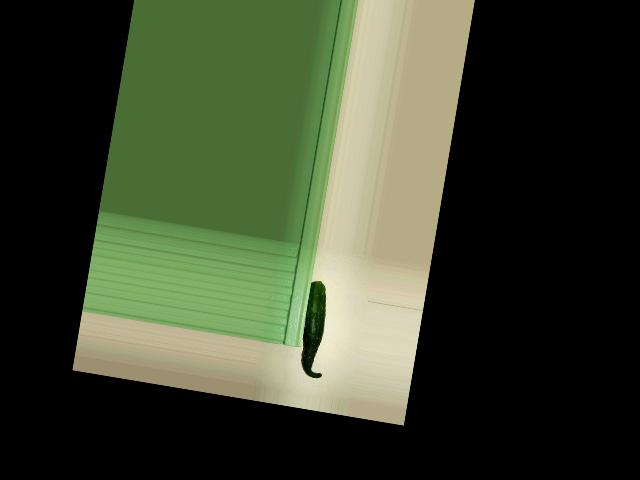cucumber: (295, 280, 336, 379)
